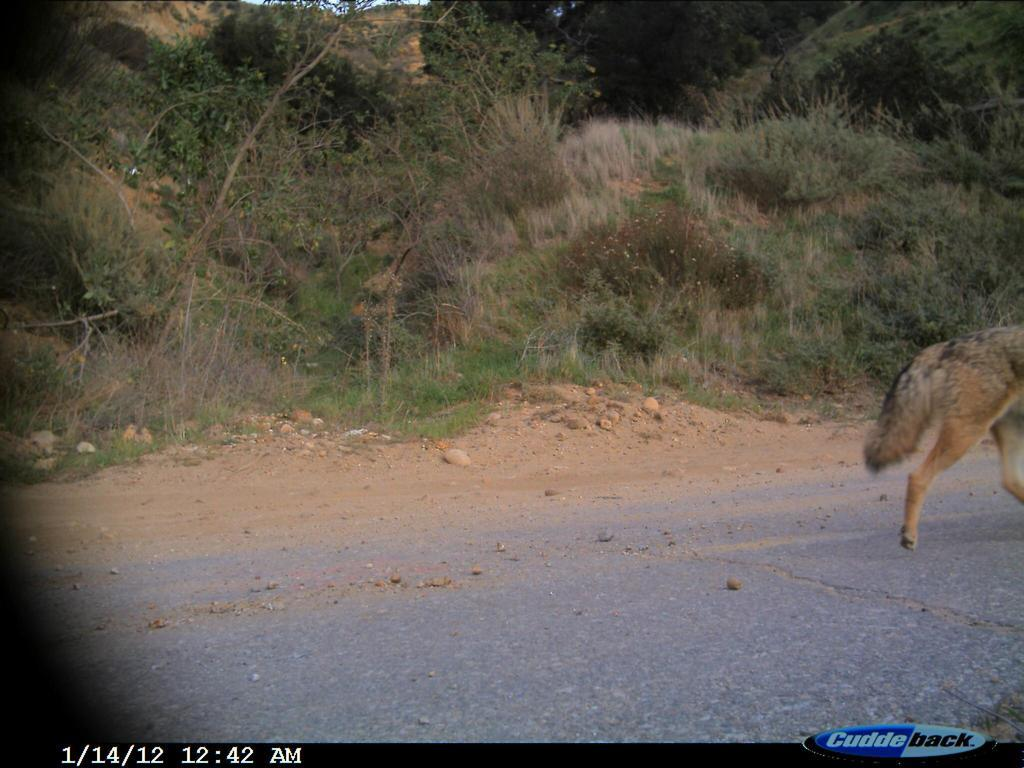coyote: (867, 319, 1021, 555)
